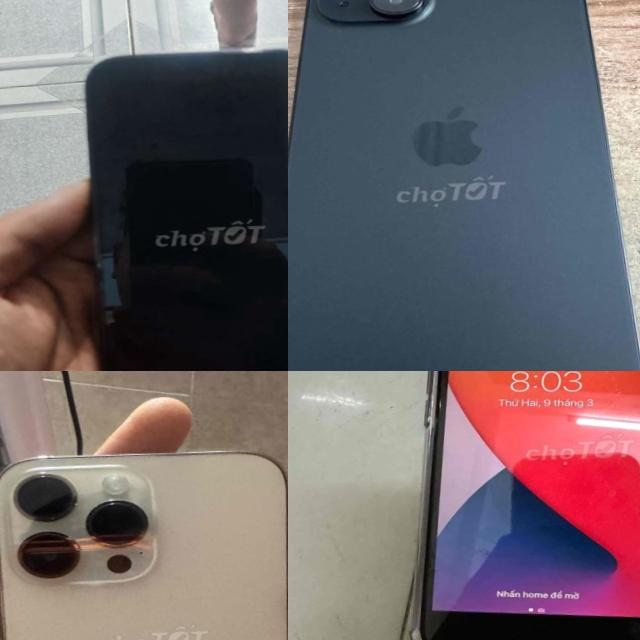scratch: (394, 371, 640, 640)
